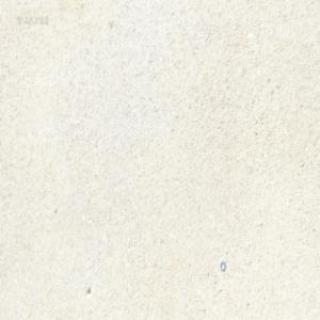Washertrack_idkeyframe: (219, 259, 225, 271)
